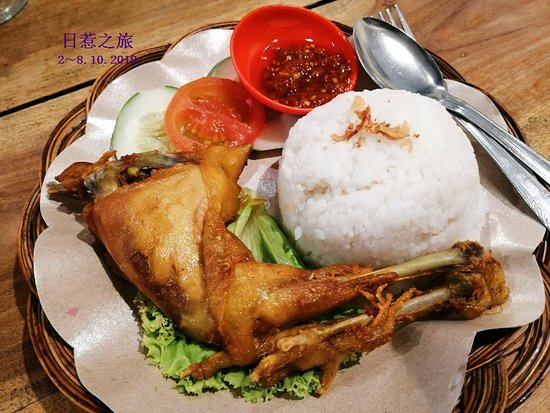Ayam: (58, 149, 475, 375)
